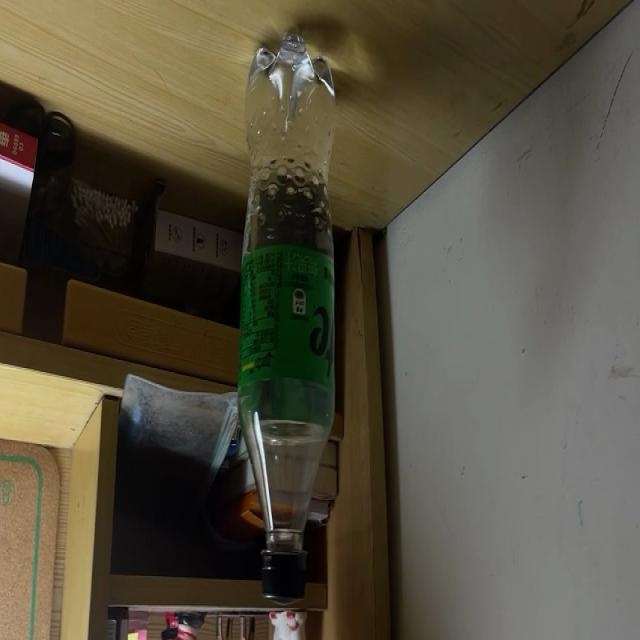Sprite: (237, 31, 337, 600)
